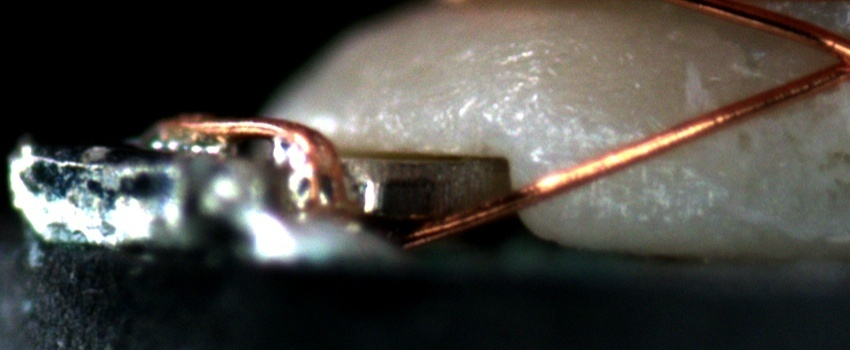CL: (803, 29, 849, 91)
TE: (163, 108, 356, 225)
